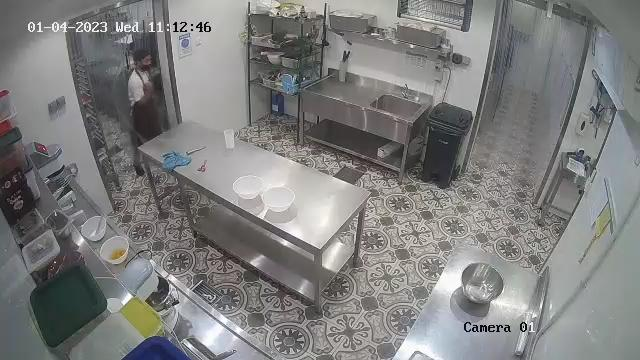apron: (129, 72, 160, 131)
